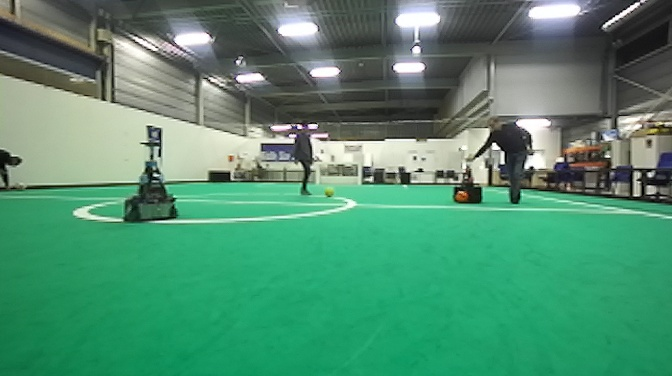ball: (321, 183, 336, 200), (455, 188, 470, 205), (11, 179, 28, 192)
goal: (316, 161, 365, 185)
goalpost: (357, 160, 364, 186), (314, 160, 320, 185)
human: (462, 114, 537, 207), (287, 116, 317, 199), (1, 144, 24, 192)
robot: (119, 135, 184, 224), (447, 157, 486, 208)
